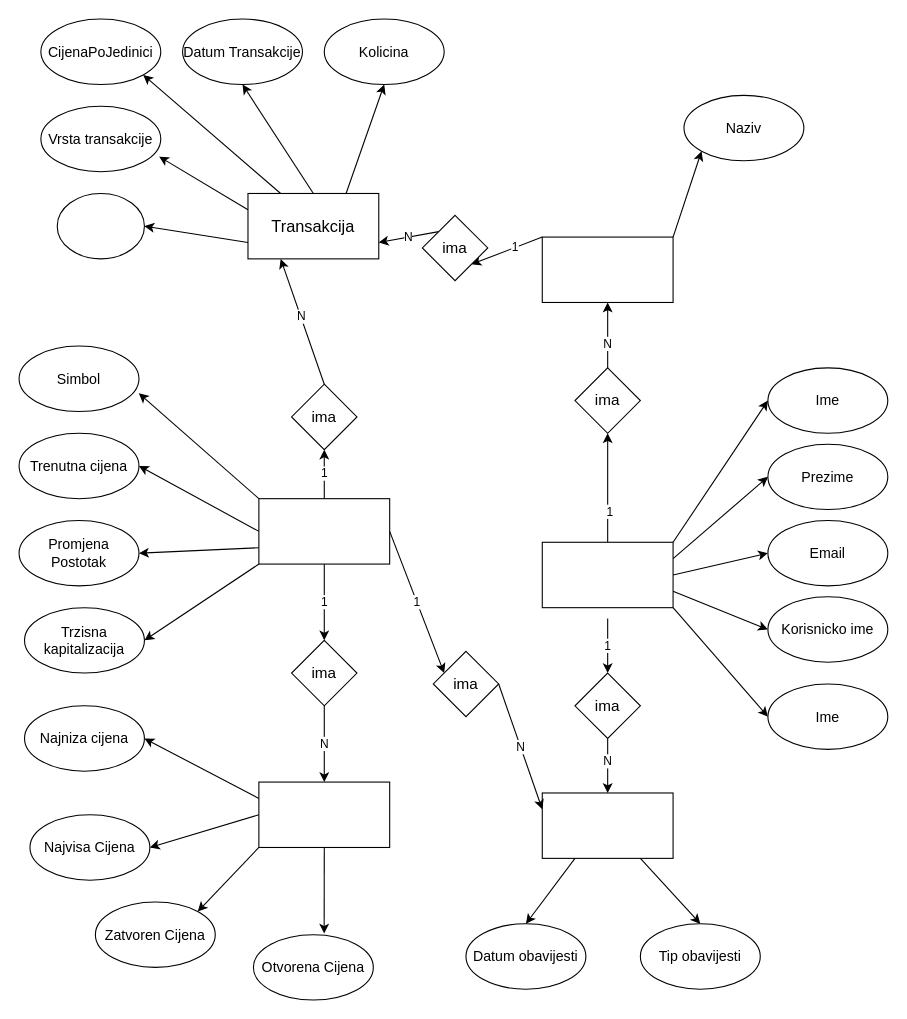
The diagram is 907 pixels wide and 1019 high, and some of its shapes have lost their labels. Here are the shapes that lost their labels. From the top down, the centre of each, then its label:
At (x=100, y=225): "ID".
At (x=607, y=269): "Portfelj".
At (x=324, y=531): "Dionica".
At (x=607, y=574): "Korisnik".
At (x=324, y=814): "Povijest cijena".
At (x=607, y=825): "Obavijest".
